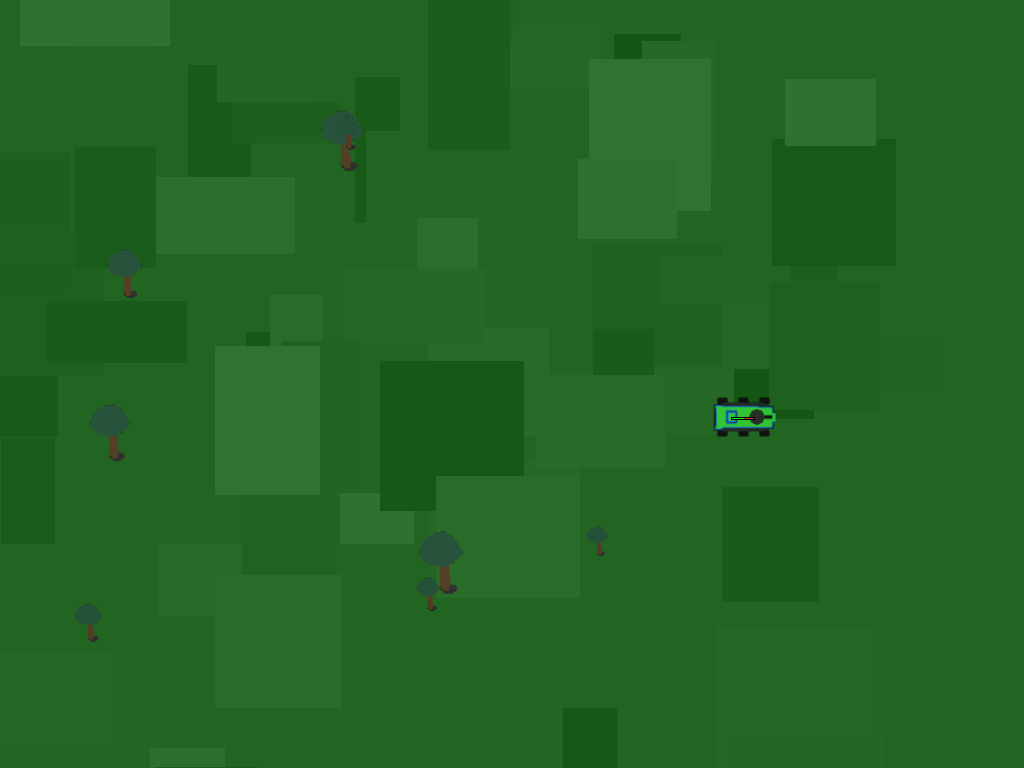APC_usa: (716, 389, 769, 442)
